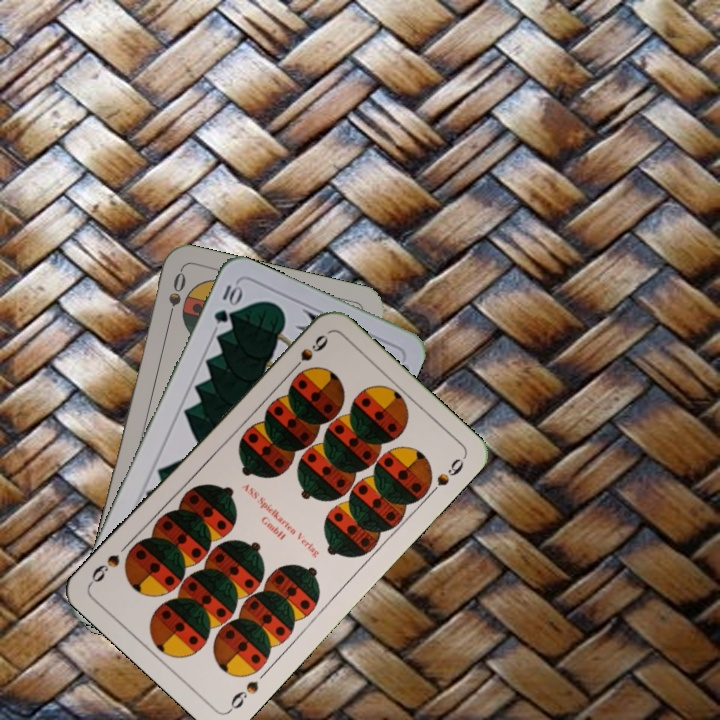G10: (209, 279, 244, 326)
S9: (285, 330, 331, 377), (224, 676, 262, 715)
SO: (163, 268, 189, 326)
